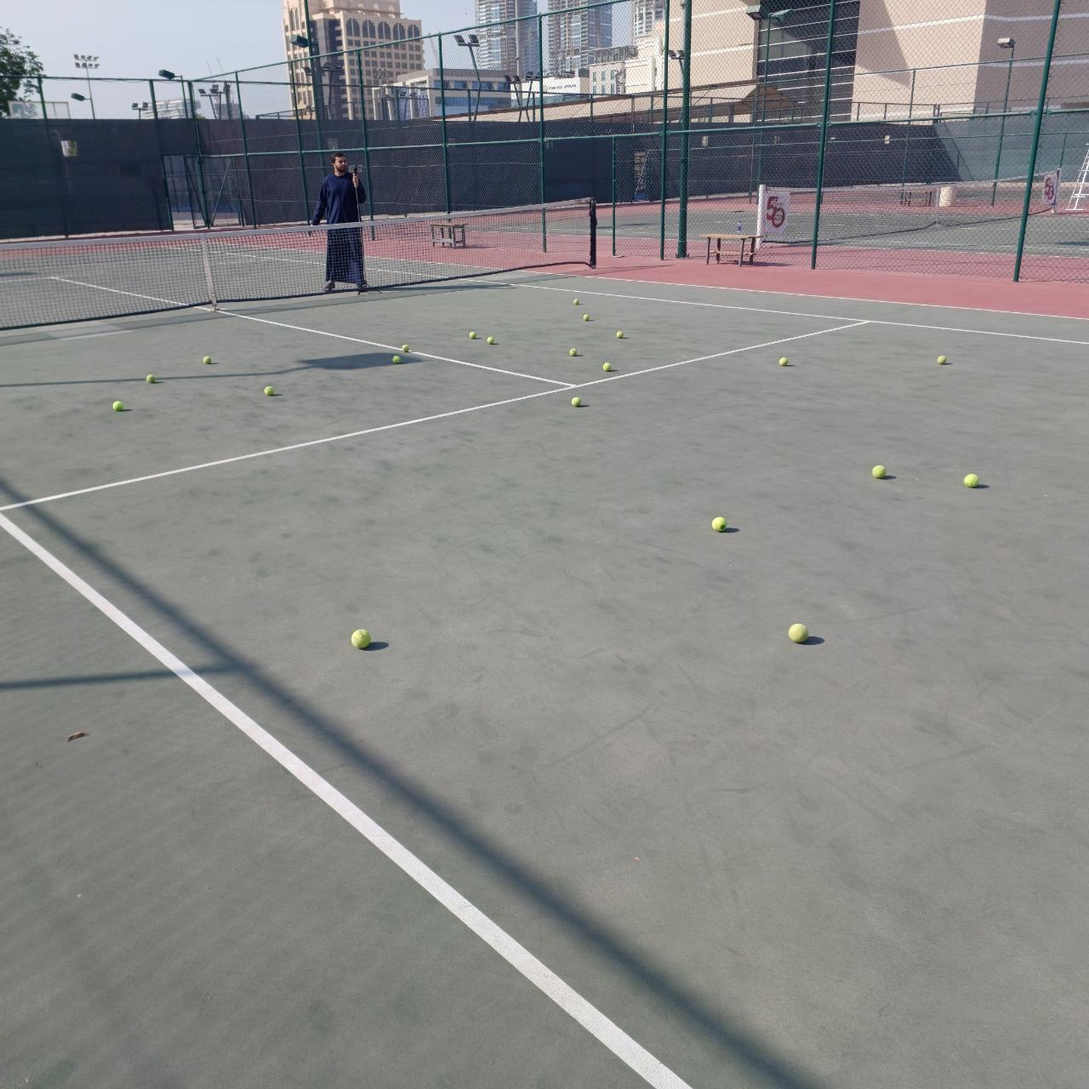tennis-ball: (349, 626, 371, 649), (786, 620, 807, 642), (710, 514, 727, 532), (869, 462, 886, 478), (962, 471, 978, 487), (263, 385, 275, 397), (111, 401, 124, 412), (936, 354, 947, 365), (571, 396, 582, 407), (778, 357, 789, 367), (146, 374, 156, 384), (602, 362, 612, 371), (569, 348, 578, 357), (392, 355, 401, 364), (202, 356, 211, 365), (616, 331, 624, 339), (573, 298, 580, 306), (487, 336, 494, 344), (402, 345, 410, 352), (583, 314, 590, 321), (470, 331, 476, 339)
